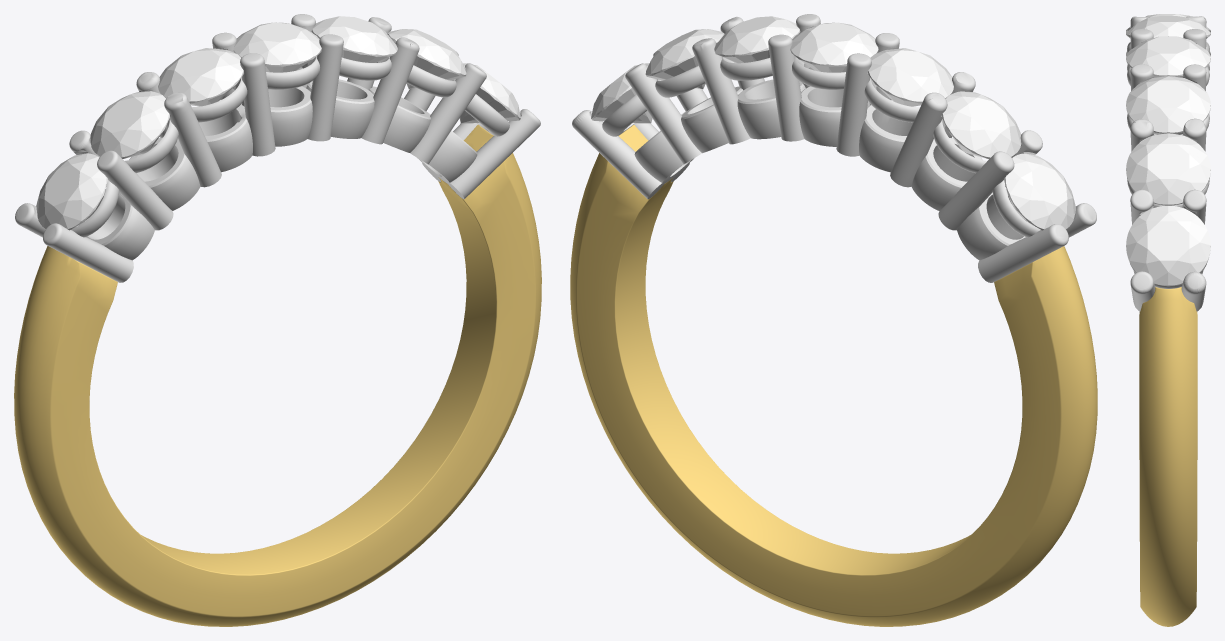
File: MikeRing_webgi.glb
3 views of the same model, side by side, from view 1: azimuth 30°, elevation 25°; view 2: azimuth 150°, elevation 25°; view 3: azimuth 270°, elevation 25° (orthographic). The views are drawn at different scales.
Visible parts, largest first — view 1: MikeYGRing, diamonds_for_3d_model007, diamonds_for_3d_model004, diamonds_for_3d_model003, diamonds_for_3d_model001, MikePlatRing029, MikePlatRing002, MikePlatRing004, diamonds_for_3d_model002, MikePlatRing, MikePlatRing006, MikePlatRing008 (+18 smaller); view 2: MikeYGRing, diamonds_for_3d_model007, diamonds_for_3d_model004, diamonds_for_3d_model003, diamonds_for_3d_model001, MikePlatRing009, MikePlatRing005, MikePlatRing028, diamonds_for_3d_model002, MikePlatRing001, MikePlatRing007, MikePlatRing003 (+18 smaller); view 3: MikeYGRing, diamonds_for_3d_model006, diamonds_for_3d_model005, diamonds_for_3d_model002, diamonds_for_3d_model001, diamonds_for_3d_model003, MikePlatRing029, MikePlatRing028, MikePlatRing, MikePlatRing001, MikePlatRing002, MikePlatRing009 (+5 smaller).
Boxes of the visible parts, x1,y1,x2,y2 form: MikeYGRing: (14,124,541,626); diamonds_for_3d_model007: (36,153,107,230); diamonds_for_3d_model004: (90,91,169,158); diamonds_for_3d_model003: (158,48,243,106); diamonds_for_3d_model001: (233,22,321,72); MikePlatRing029: (446,109,540,199); MikePlatRing002: (361,37,419,144); MikePlatRing004: (307,34,343,141); diamonds_for_3d_model002: (311,16,397,62); MikePlatRing: (410,63,486,164); MikePlatRing006: (240,53,275,156); MikePlatRing008: (164,92,221,187); MikeYGRing: (570,125,1097,626); diamonds_for_3d_model007: (1004,153,1075,230); diamonds_for_3d_model004: (942,91,1021,159); diamonds_for_3d_model003: (868,48,953,106); diamonds_for_3d_model001: (790,22,878,72); MikePlatRing009: (692,38,750,144); MikePlatRing005: (768,34,804,141); MikePlatRing028: (572,110,665,199); diamonds_for_3d_model002: (714,16,800,63); MikePlatRing001: (625,63,701,164); MikePlatRing007: (836,53,871,156); MikePlatRing003: (890,92,947,187); MikeYGRing: (1139,287,1197,626); diamonds_for_3d_model006: (1126,205,1210,286); diamonds_for_3d_model005: (1126,133,1210,205); diamonds_for_3d_model002: (1126,76,1210,133); diamonds_for_3d_model001: (1126,36,1210,77); diamonds_for_3d_model003: (1126,16,1210,38); MikePlatRing029: (1130,271,1155,311); MikePlatRing028: (1181,271,1206,311); MikePlatRing: (1130,189,1154,224); MikePlatRing001: (1182,189,1206,224); MikePlatRing002: (1130,119,1154,151); MikePlatRing009: (1182,118,1206,151).
Bounding box in the file's own units: 2.71 × 2.91 × 0.4032.
